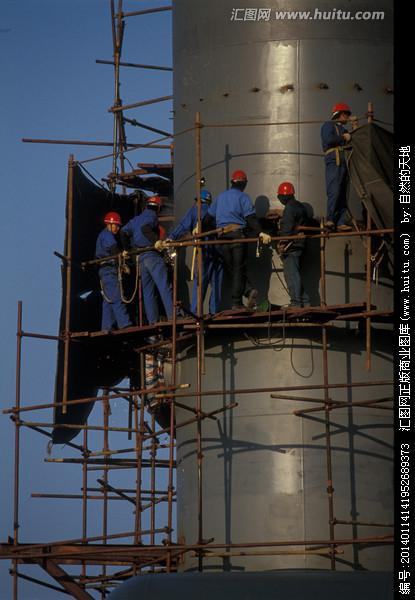helmet: (274, 182, 298, 208), (327, 101, 351, 126), (227, 167, 250, 191), (103, 209, 122, 238), (195, 185, 214, 214), (144, 191, 165, 216)
